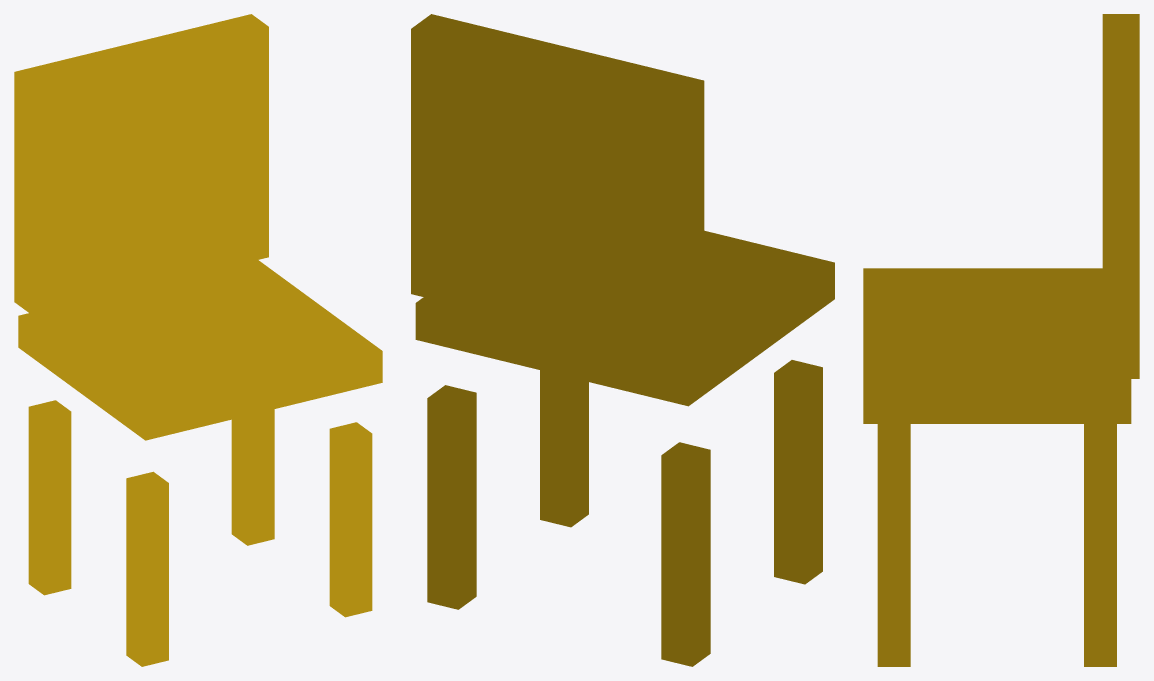
File: chair.obj
3 views of the same model, side by side, from view 1: azimuth 30°, elevation 25°; view 2: azimuth 150°, elevation 25°; view 3: azimuth 270°, elevation 25° (orthographic). The views are drawn at different scales.
Parts seen in each view (by area): view 1: chair; view 2: chair; view 3: chair.
Boxes of the visible parts, x1,y1,x2,y2 form: chair: (14,14,382,666); chair: (411,14,834,666); chair: (863,14,1139,666).
Bounding box in the file's own units: 1.4 × 2.85 × 1.34.
